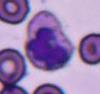N: (26, 10, 74, 70)
